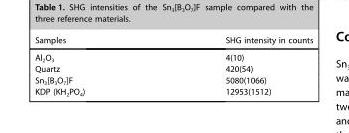table: (34, 34, 312, 96)
table column: (154, 34, 312, 96), (34, 34, 154, 96)
table column header: (34, 34, 312, 48)
table row: (34, 48, 312, 63), (34, 34, 312, 48), (34, 63, 312, 74), (34, 74, 312, 85), (34, 85, 312, 96)
